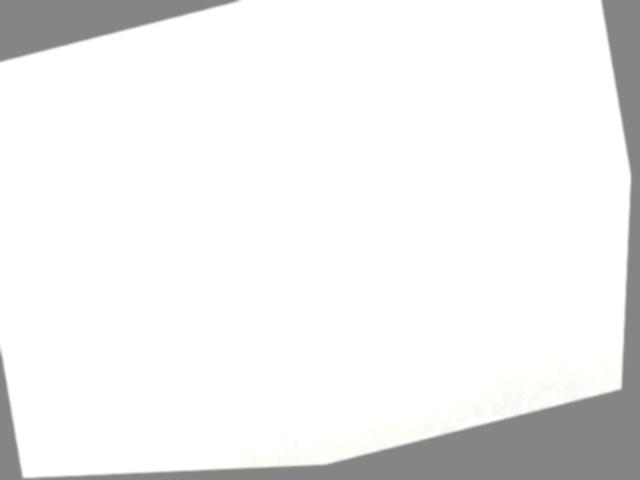iha: (338, 277, 343, 285)
